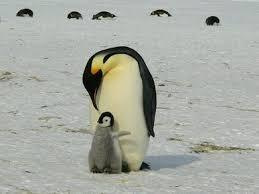emporer: (80, 40, 168, 181)
